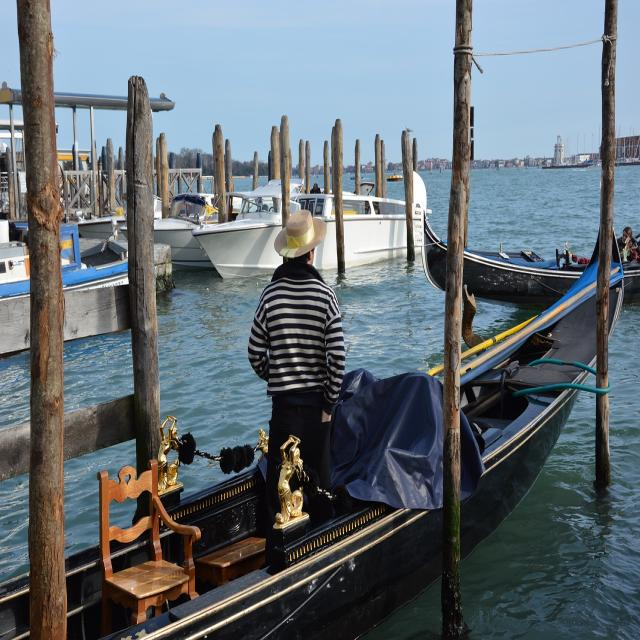boat: (0, 227, 640, 640), (193, 147, 440, 290), (412, 172, 640, 321)
